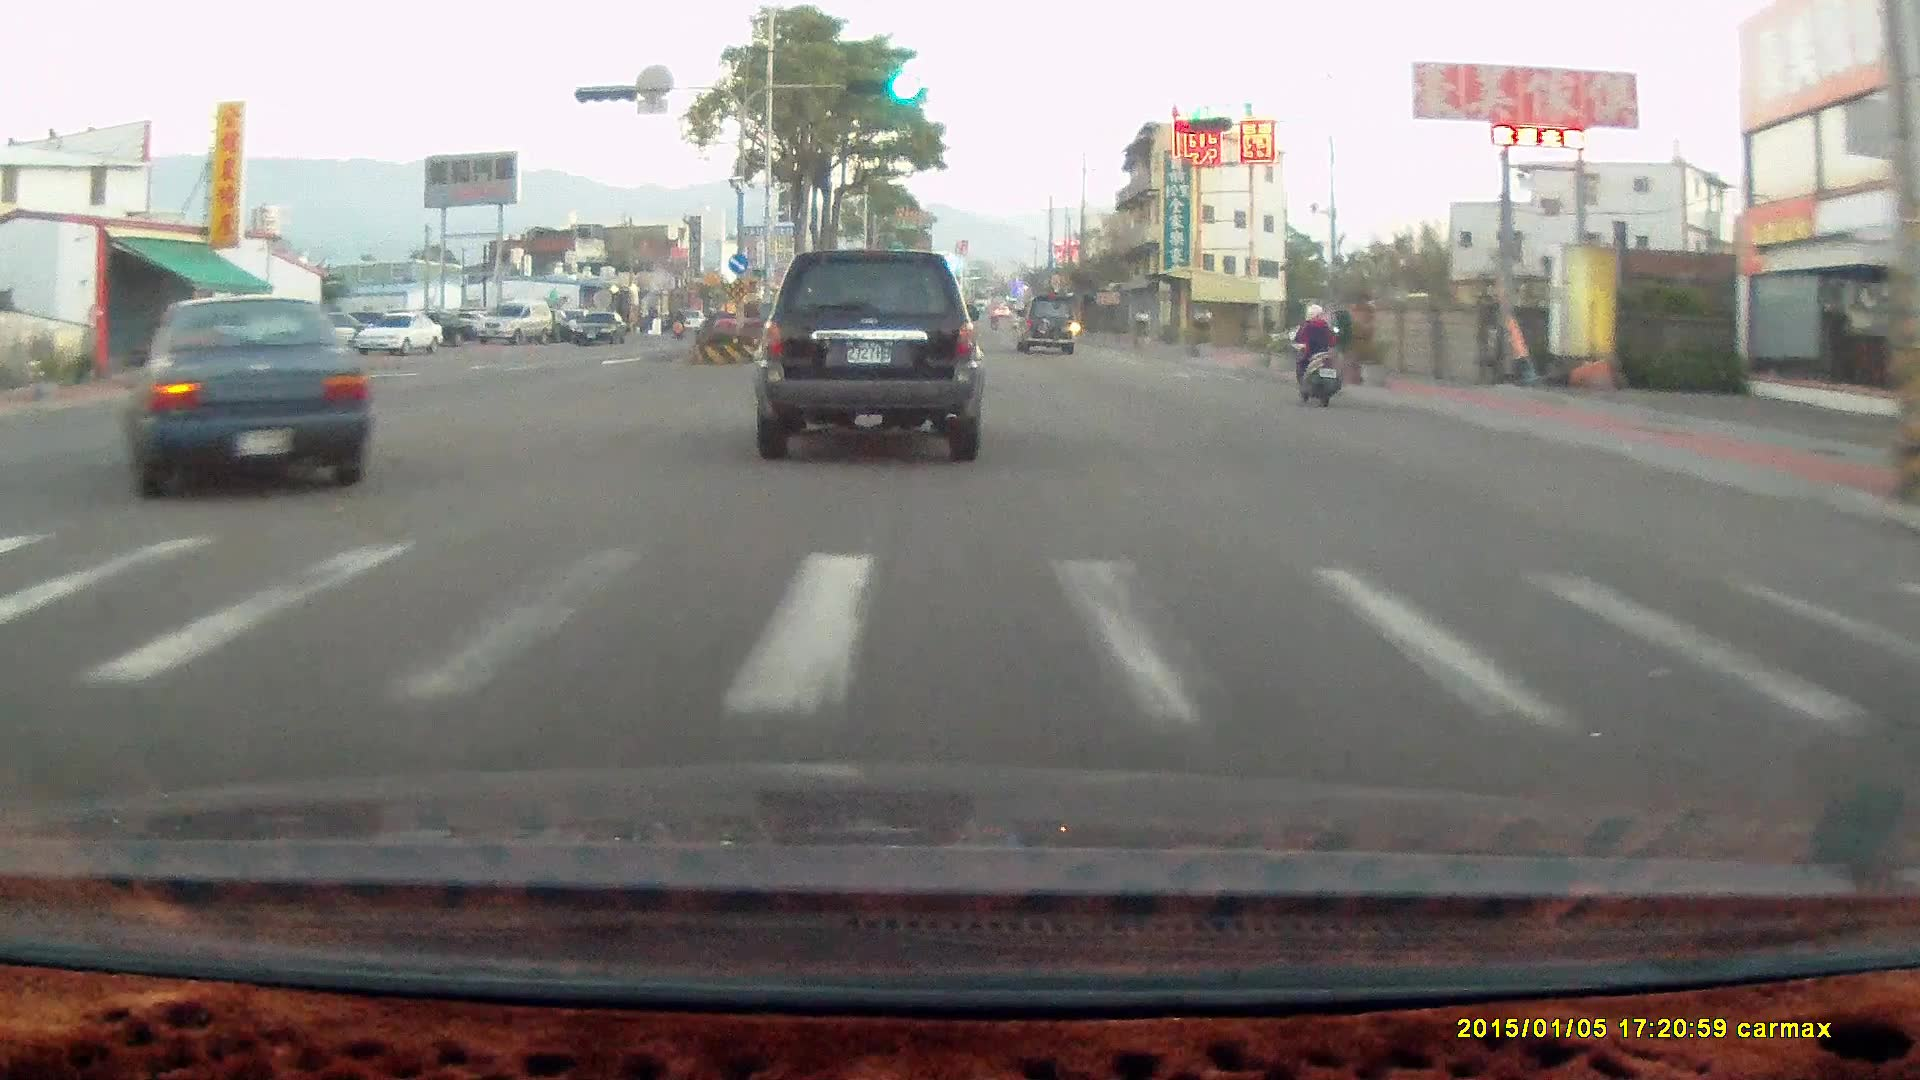rider: (1279, 294, 1355, 415), (1289, 300, 1343, 409)
vehicle: (106, 295, 366, 507), (120, 296, 369, 503), (752, 248, 982, 461), (761, 250, 992, 463), (1021, 296, 1081, 361), (472, 303, 554, 352), (356, 310, 443, 355), (356, 314, 443, 359), (472, 298, 553, 344), (1015, 295, 1078, 354), (395, 310, 474, 347), (572, 314, 629, 348), (571, 310, 627, 343)
